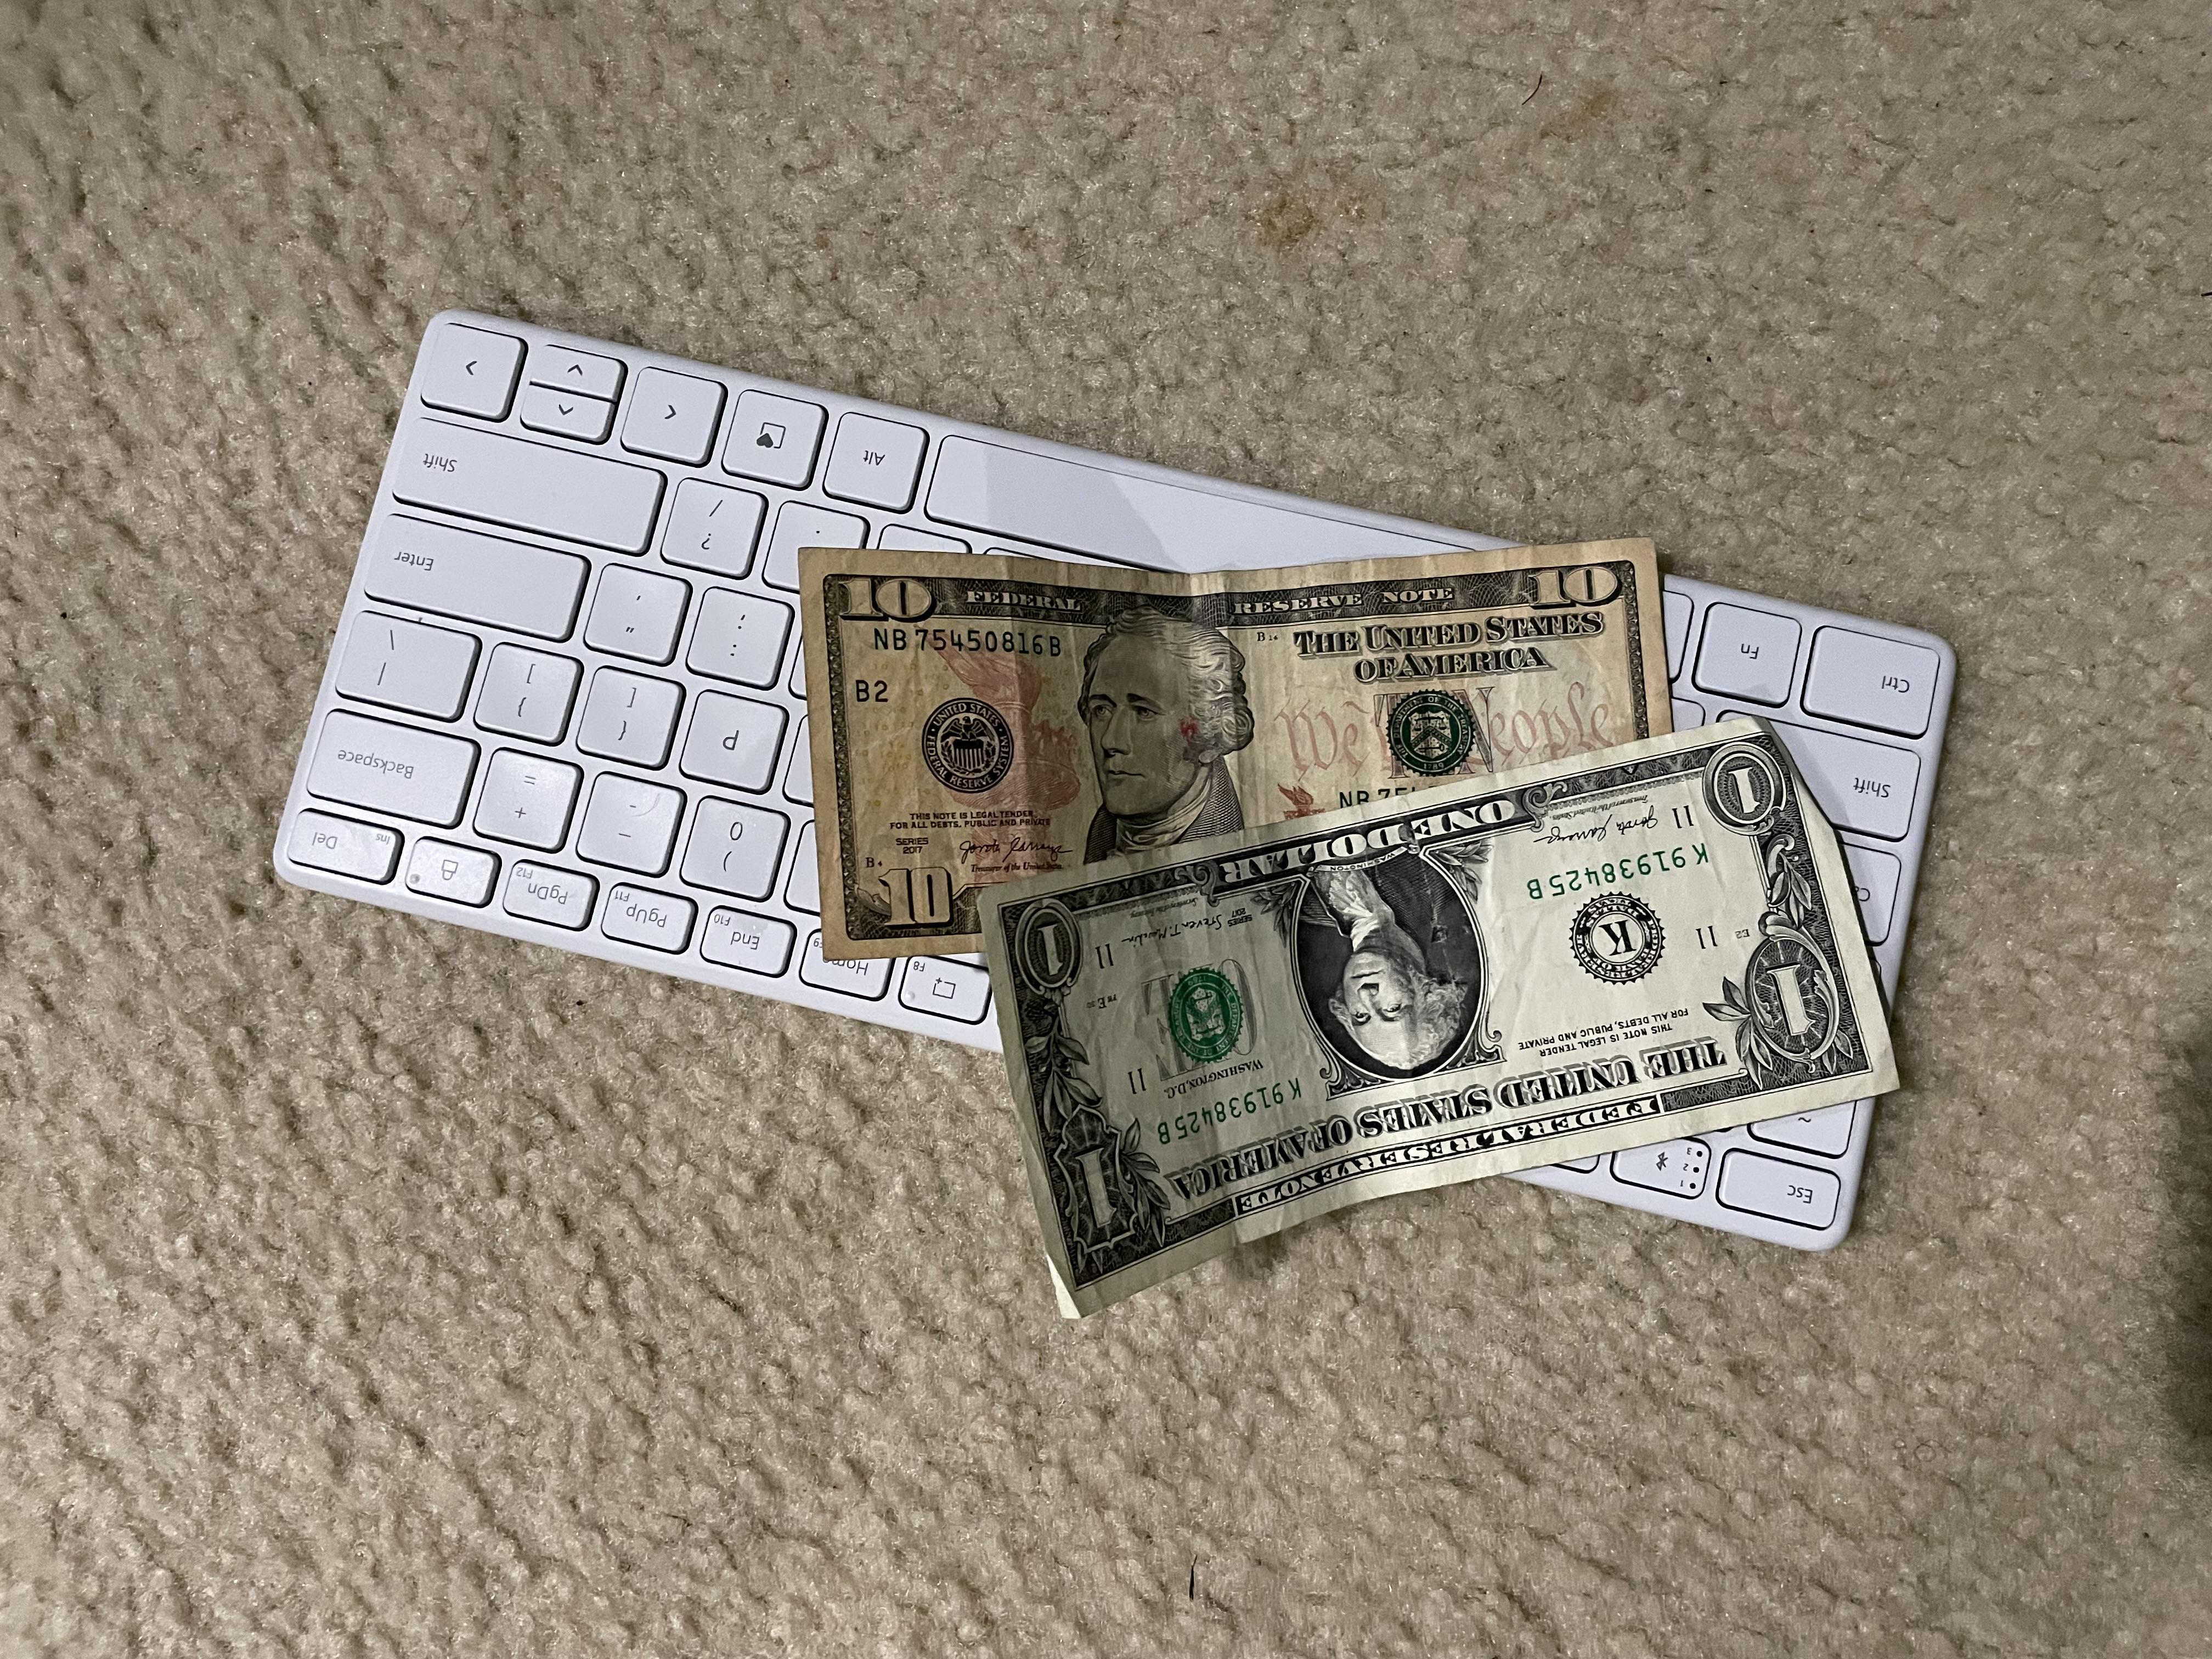OneBill: (989, 714, 1898, 1305)
TenBill: (780, 528, 1693, 965)
